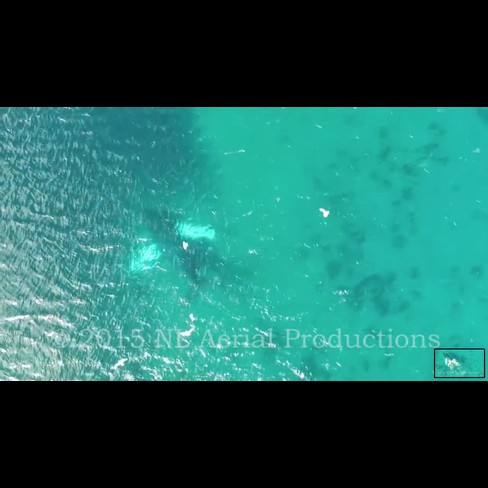hump: (125, 198, 229, 308)
